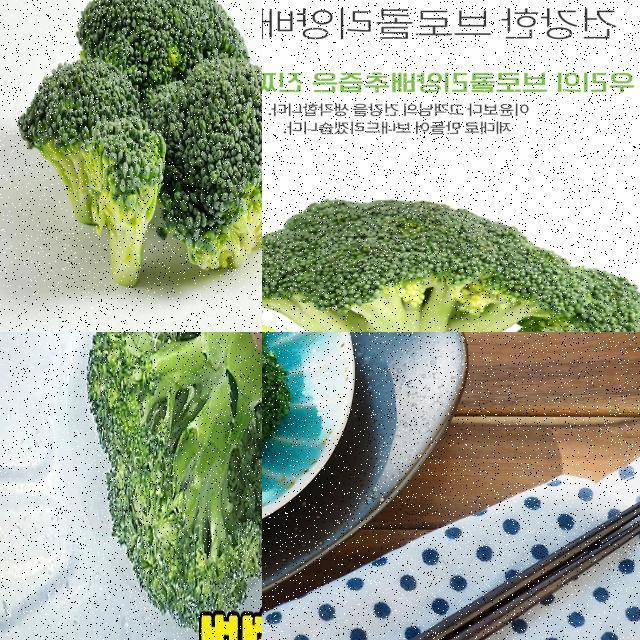broccoli: (13, 0, 261, 304), (84, 332, 261, 626), (262, 198, 639, 331), (262, 332, 293, 472)
